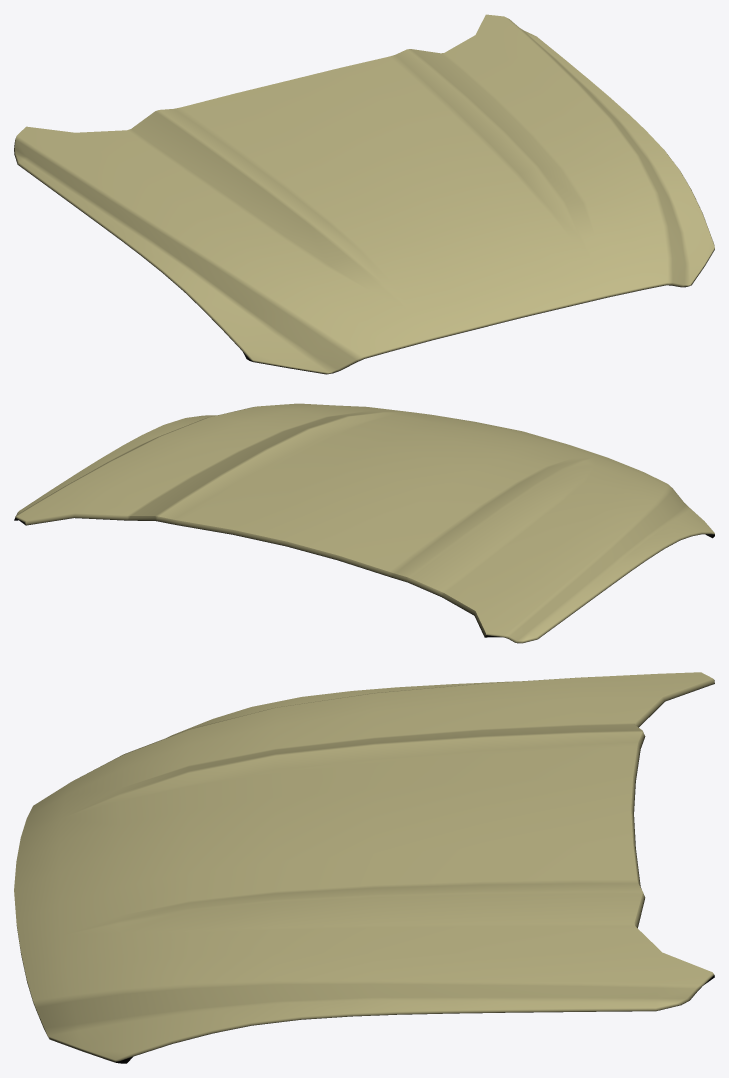
File: Mustang16_Hood_01_Duco.fbx
3 views of the same model, one above another, from view 1: azimuth 30°, elevation 25°; view 2: azimuth 150°, elevation 25°; view 3: azimuth 270°, elevation 25° (orthographic). The views are drawn at different scales.
Parts seen in each view (by area): view 1: Mustang16_Hood_01_Duco; view 2: Mustang16_Hood_01_Duco; view 3: Mustang16_Hood_01_Duco.
Part boxes in pixels (x1,y1,x2,y2): Mustang16_Hood_01_Duco: [14, 14, 714, 374]; Mustang16_Hood_01_Duco: [14, 403, 714, 643]; Mustang16_Hood_01_Duco: [14, 672, 714, 1063].
Bounding box in the file's own units: 168 × 26.72 × 149.
